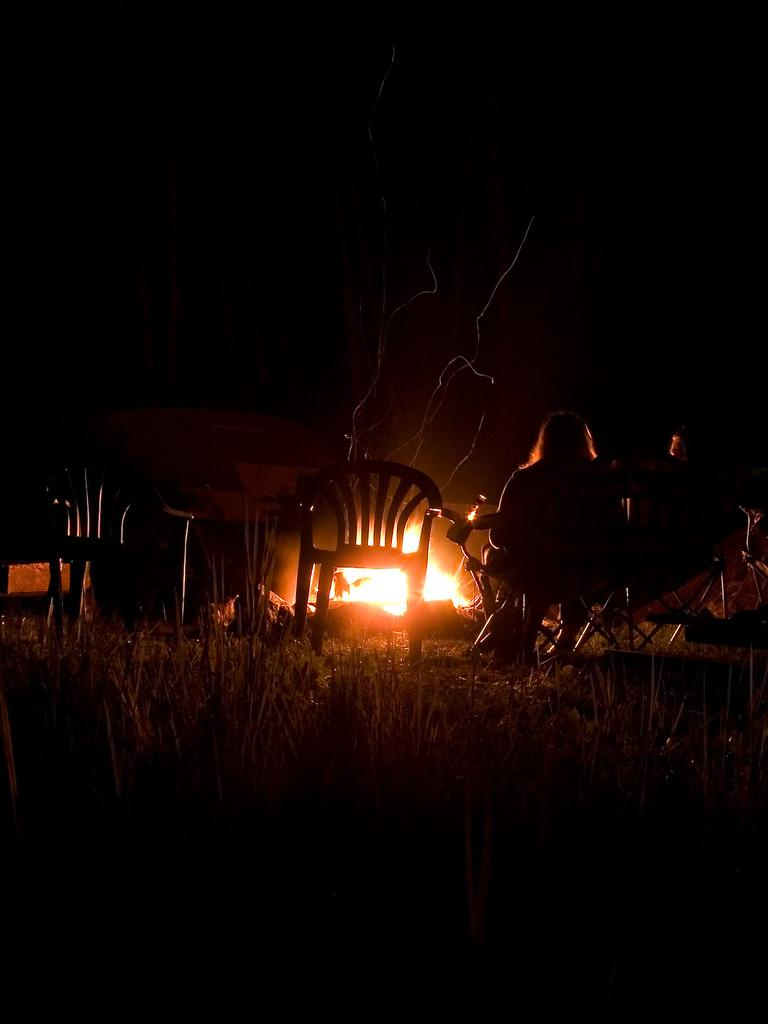fire: (348, 565, 465, 618)
